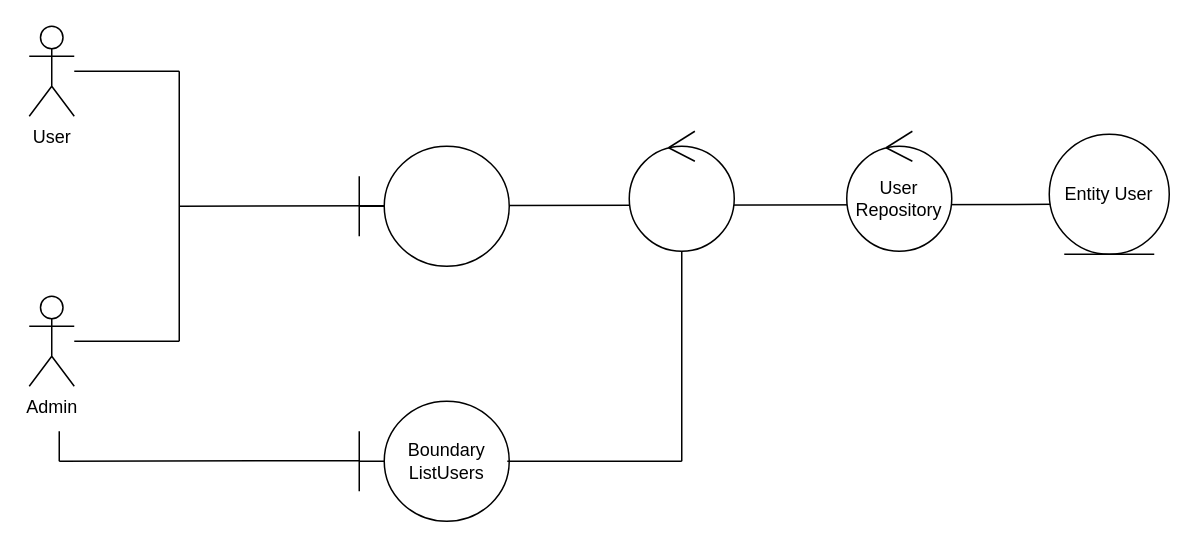
This 1196x548 diagram has some shape labels left out. The centre of each missing label's shape, as x and y in pixels:
"Boundary SignUp" belongs at (433,205).
"Control User" belongs at (681,190).
